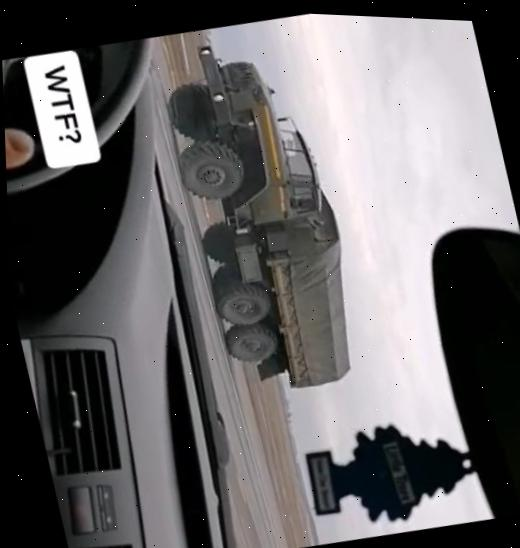truck: (160, 30, 382, 402)
